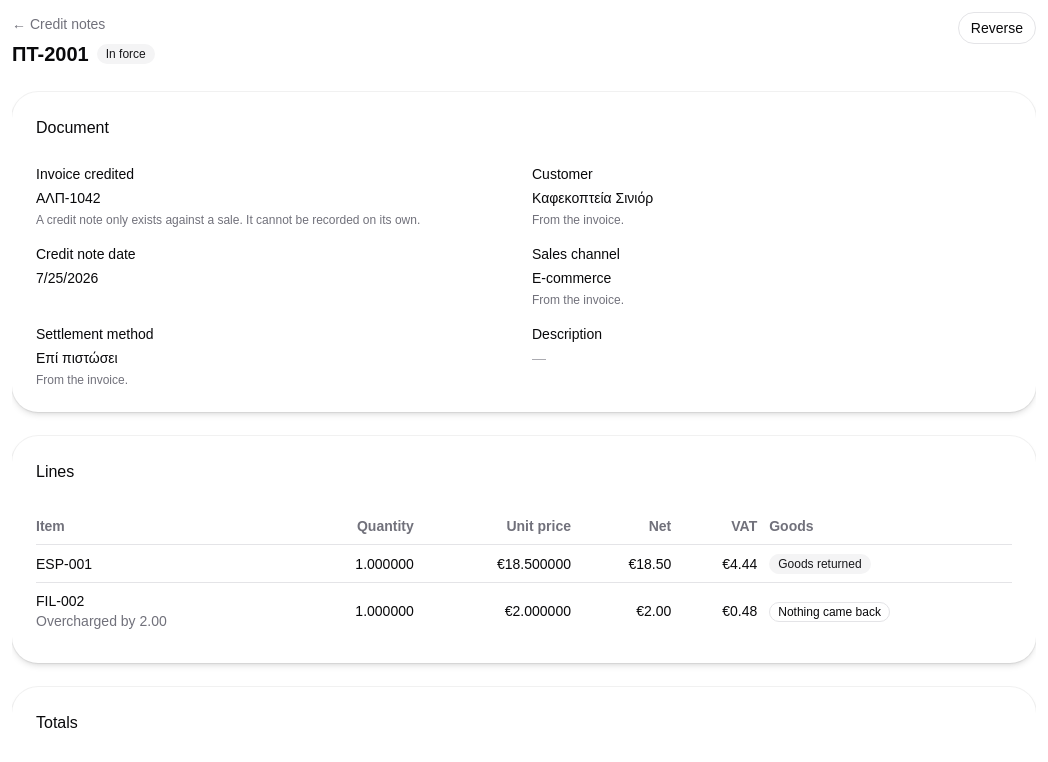
Test case: the credit note detail › will not send a reversal without a reason
The width and height of the screenshot is (1048, 762).
Expected: the heading "ΠΤ-2001 In force" is shown, 12,40 -> 155,68
Click the button "Reverse": (997, 28) 958,12 -> 1036,44
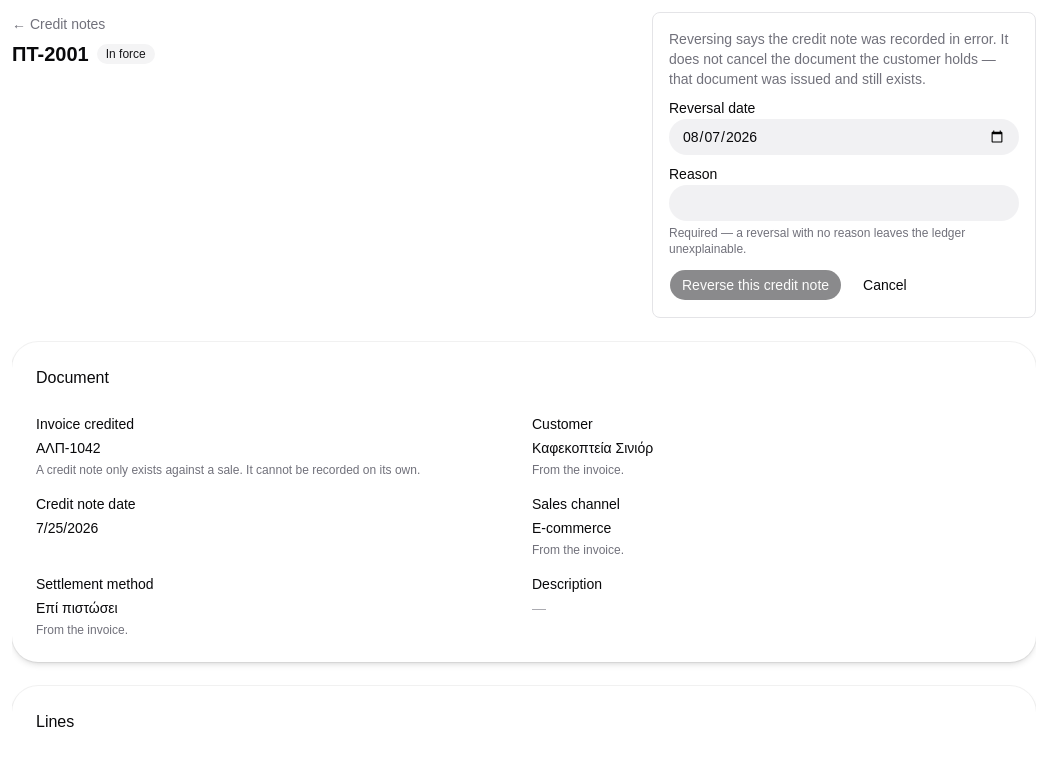
Expected: the button "Reverse this credit note" is disabled, 669,269 -> 842,301
